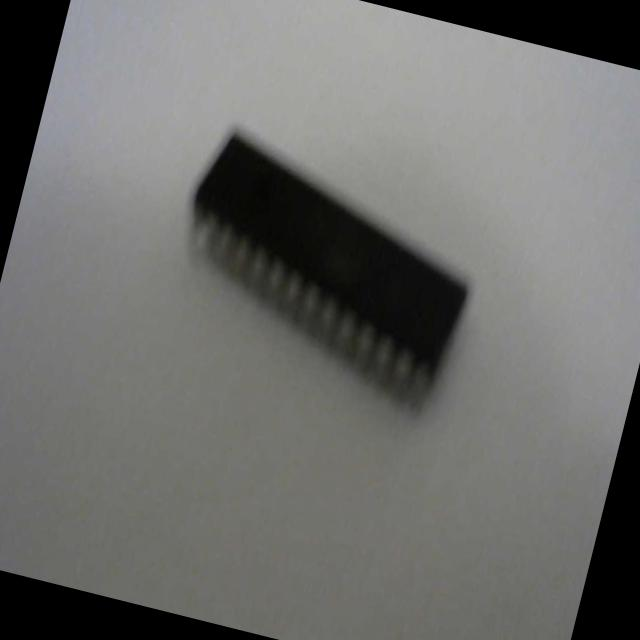atmega: (152, 115, 498, 424)
